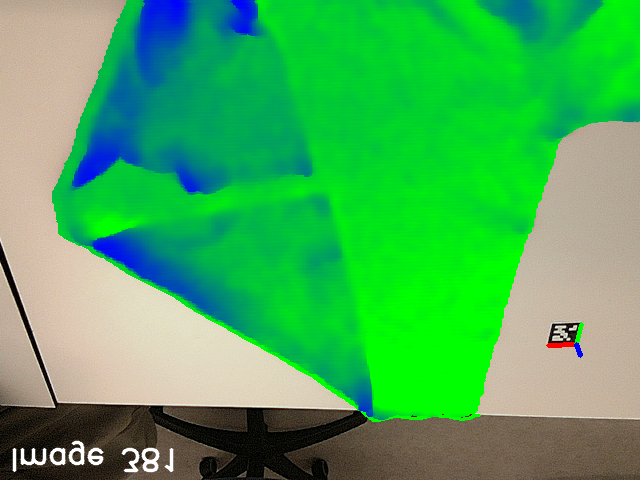V: (285, 185, 350, 234), (271, 138, 325, 182)
